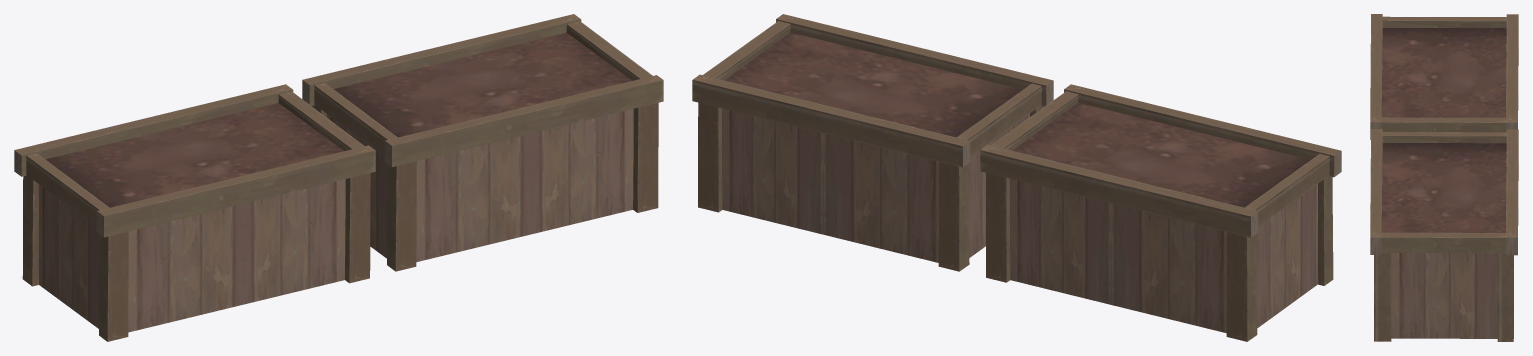
File: Homeworld_Exterior_Md_Flower_Flowerpot_Pot_01_Lod0.fbx
3 renders of one model, left to right at view 1: azimuth 30°, elevation 25°; view 2: azimuth 150°, elevation 25°; view 3: azimuth 270°, elevation 25°, orthographic. The views are drawn at different scales.
Parts seen in each view (by area): view 1: Homeworld_Exterior_Md_Flower_Flowerpot_Pot_01_Lod0; view 2: Homeworld_Exterior_Md_Flower_Flowerpot_Pot_01_Lod0; view 3: Homeworld_Exterior_Md_Flower_Flowerpot_Pot_01_Lod0.
Boxes of the visible parts, x1,y1,x2,y2 form: Homeworld_Exterior_Md_Flower_Flowerpot_Pot_01_Lod0: [14, 14, 663, 341]; Homeworld_Exterior_Md_Flower_Flowerpot_Pot_01_Lod0: [692, 14, 1341, 341]; Homeworld_Exterior_Md_Flower_Flowerpot_Pot_01_Lod0: [1370, 14, 1518, 341].
Bounding box in the file's own units: 2.63 × 0.5787 × 0.7383.
